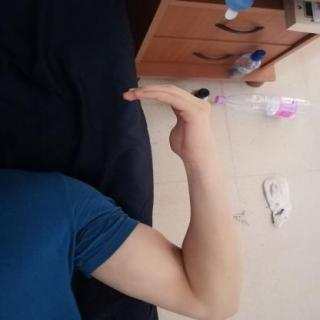HAA: (110, 77, 228, 167)
